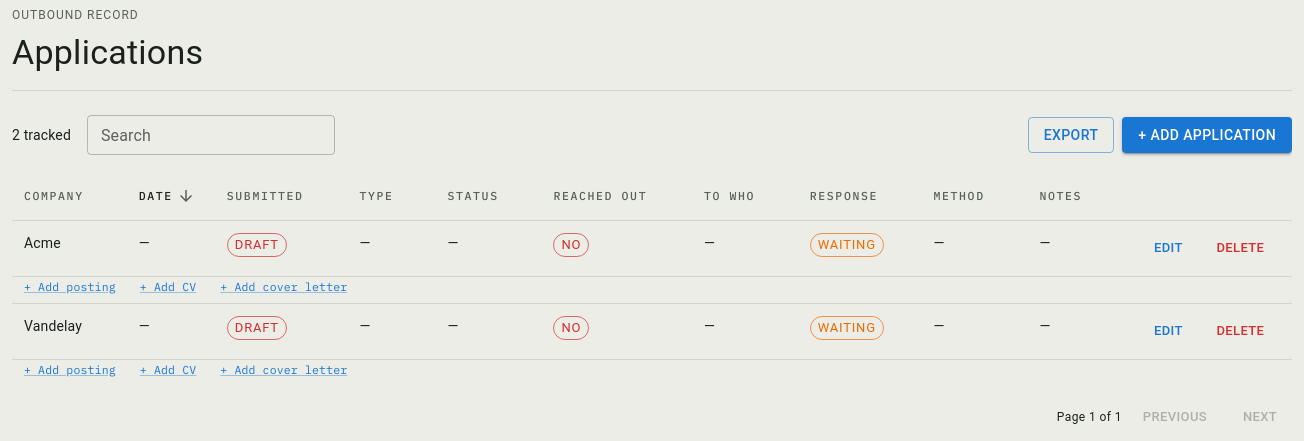
Test case: ApplicationsPage search › filters applications by search query
In the search field named "Search applications": (211, 135) left=87, top=115, right=335, bottom=155, type "vand"
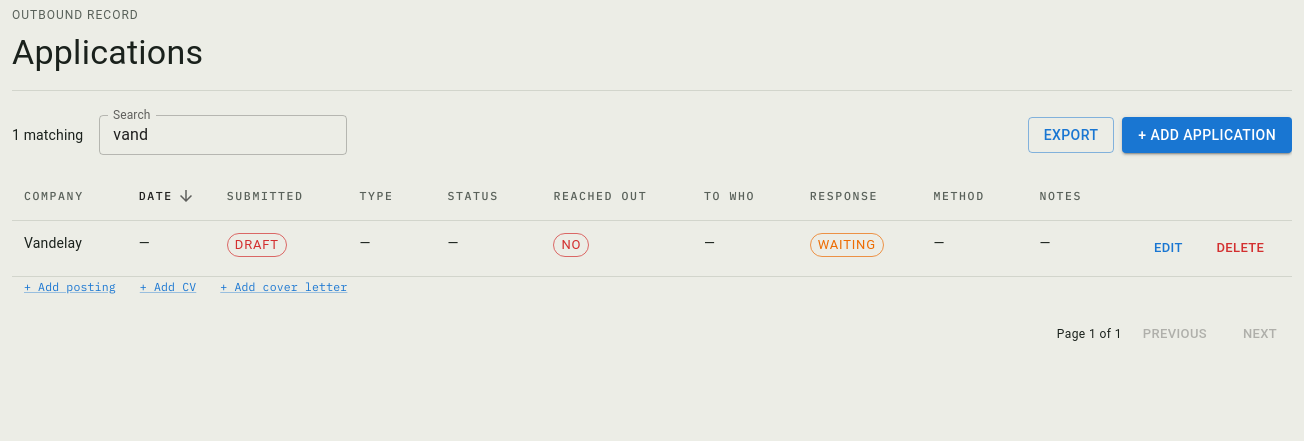
Expected: the text "Vandelay" is shown, left=24, top=235, right=82, bottom=251
Now the text "Acme" is gone
Now the text "1 matching" is shown, box left=12, top=125, right=83, bottom=145
